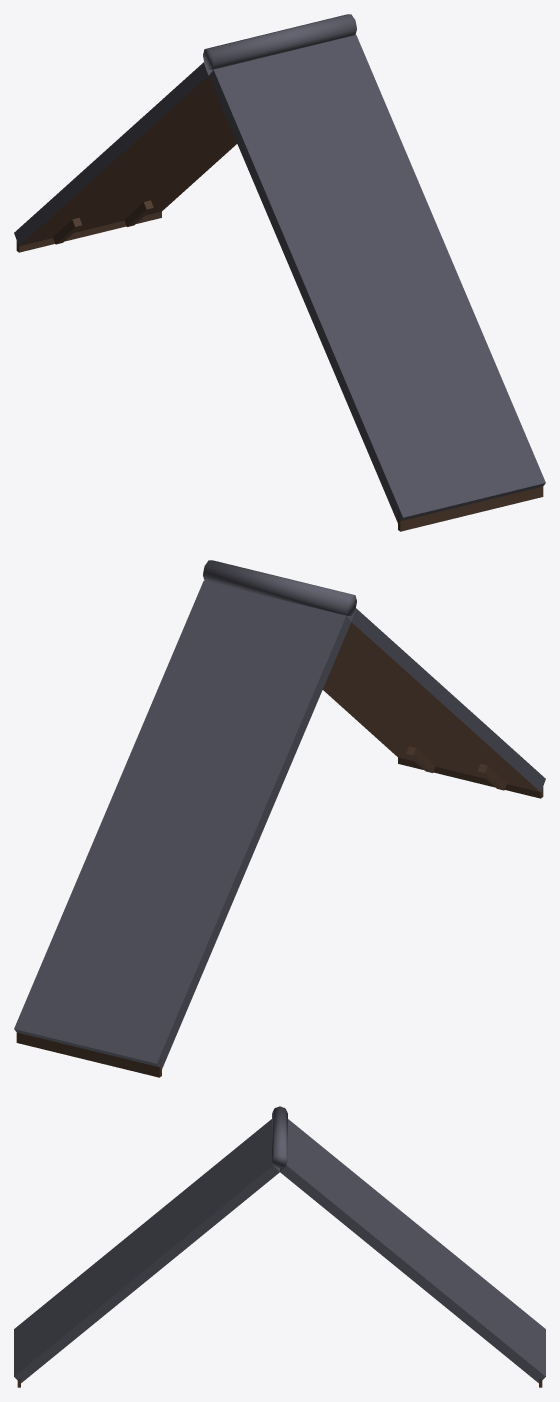
File: kit_timber_slate_w4.glb
3 views of the same model, one above another, from view 1: azimuth 30°, elevation 25°; view 2: azimuth 150°, elevation 25°; view 3: azimuth 270°, elevation 25° (orthographic). The views are drawn at different scales.
Parts seen in each view (by area): view 1: kit_timber_slate_w4; view 2: kit_timber_slate_w4; view 3: kit_timber_slate_w4.
Boxes of the visible parts, bbox=[...] form: kit_timber_slate_w4: bbox=[14, 14, 545, 531]; kit_timber_slate_w4: bbox=[14, 560, 545, 1077]; kit_timber_slate_w4: bbox=[14, 1106, 545, 1387].
Size of the model in its own units: 1 by 2.29 by 4.72.
